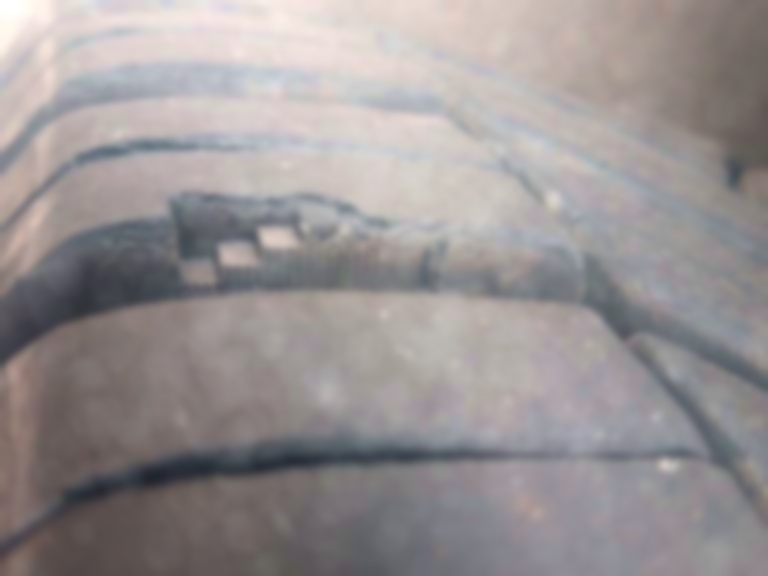temoin:80: (160, 183, 387, 306)
